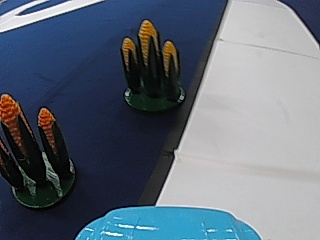corn: (1, 95, 75, 208), (117, 14, 186, 111)
